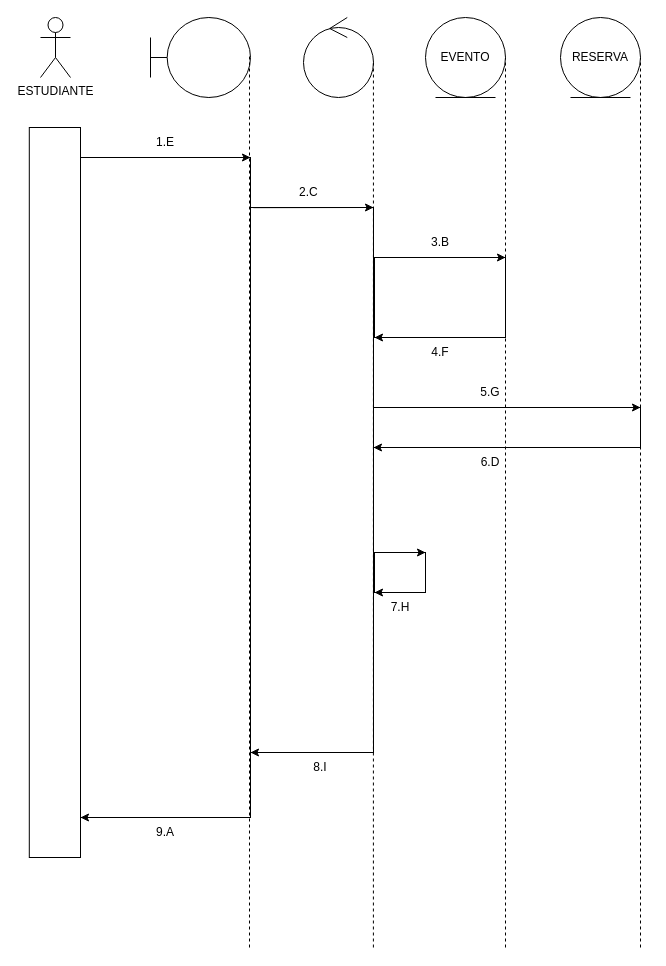
This 666x966 diagram has some shape labels left out. Each missing label, with the box of its shape:
CALCULAR CUPOS: (302, 16, 374, 98)
PANTALLA EVENTOS: (150, 16, 250, 98)
